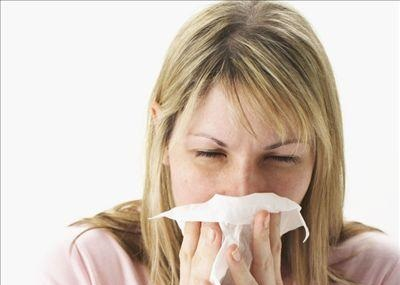face: (167, 90, 318, 253)
